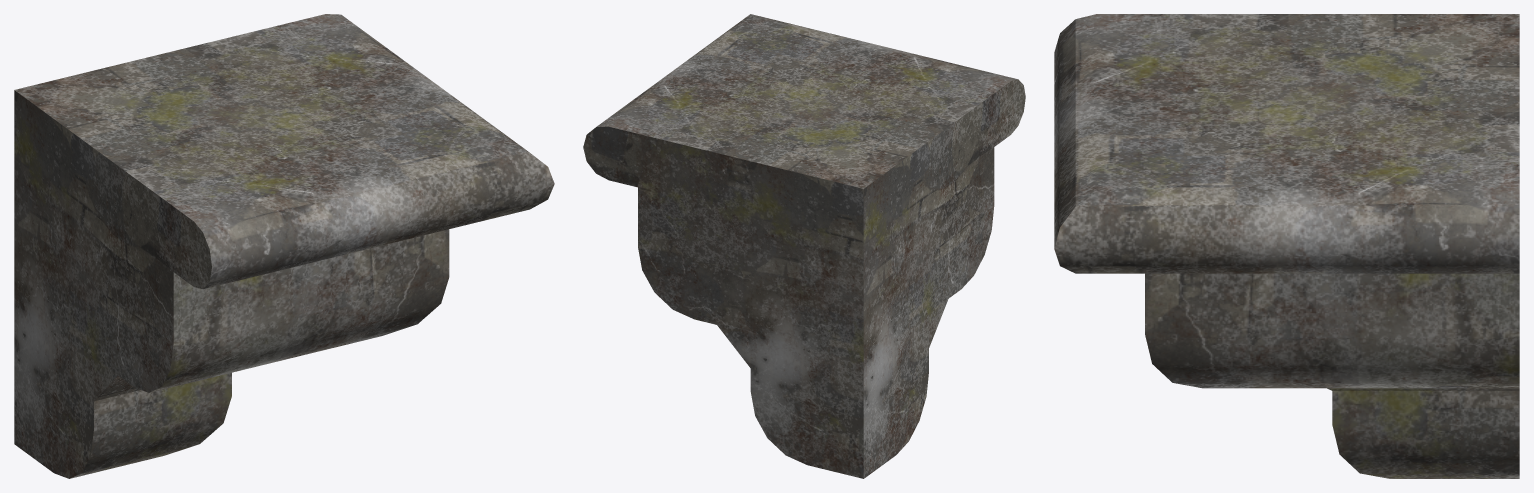
File: SM_CastleTower_Floor_Seam_Corner.fbx
The picture shows the model from 3 angles, left to right: view 1: azimuth 30°, elevation 25°; view 2: azimuth 150°, elevation 25°; view 3: azimuth 270°, elevation 25°; orthographic projection. The views are drawn at different scales.
Parts seen in each view (by area): view 1: SM_CastleTower_Floor_Seam_Corner; view 2: SM_CastleTower_Floor_Seam_Corner; view 3: SM_CastleTower_Floor_Seam_Corner.
Boxes of the visible parts, bbox=[...] form: SM_CastleTower_Floor_Seam_Corner: bbox=[14, 14, 554, 478]; SM_CastleTower_Floor_Seam_Corner: bbox=[583, 14, 1025, 478]; SM_CastleTower_Floor_Seam_Corner: bbox=[1054, 14, 1519, 478].
Bounding box in the file's own units: 124 × 124 × 123.
